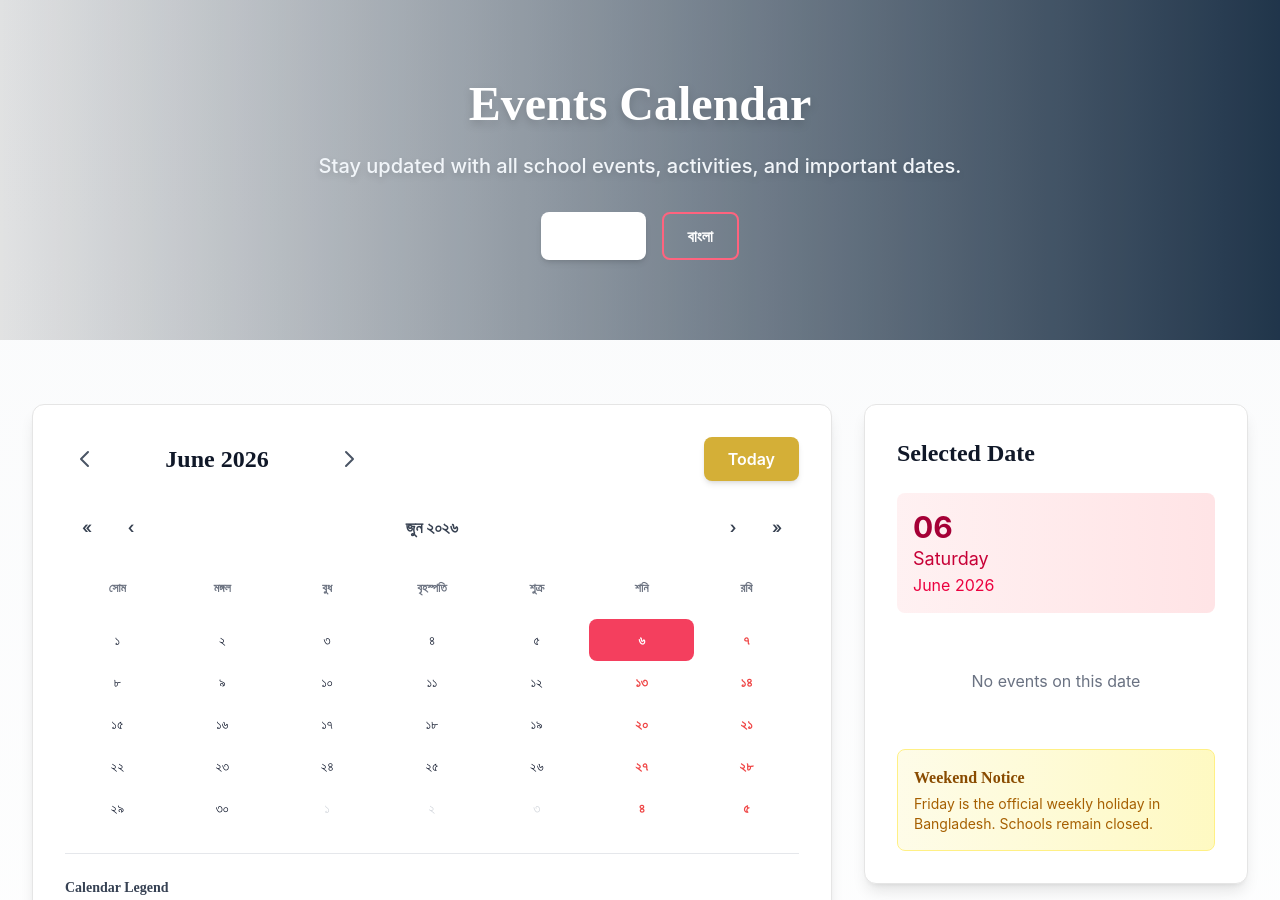
Test: EventsCalendar Page › Language Toggle › switches to Bengali language
The width and height of the screenshot is (1280, 900).
What coordinates should you click on to do the following:
click the button "বাংলা"
I would click on:
 (700, 236)
Its box is [662,212,739,260].
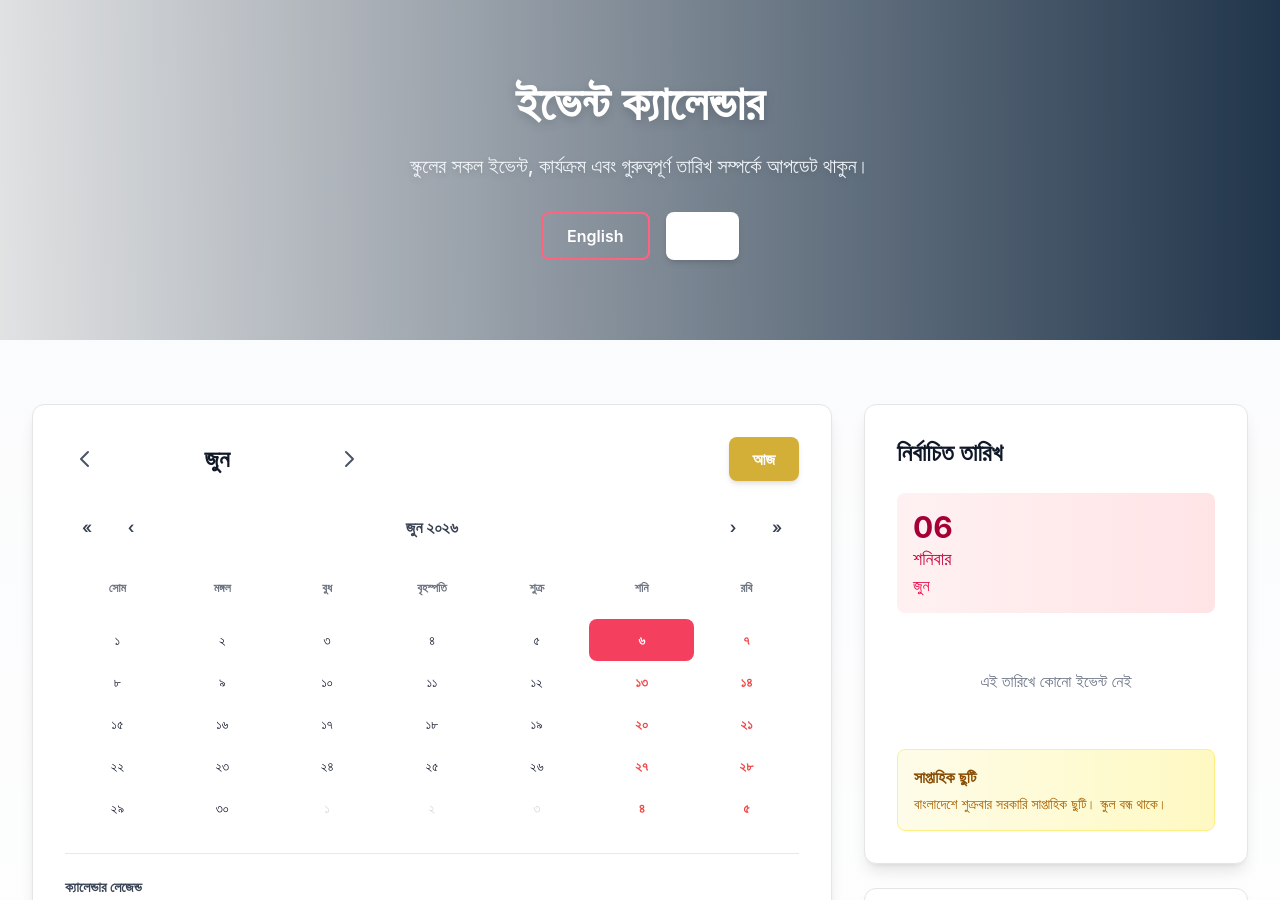
Now the heading "ইভেন্ট ক্যালেন্ডার" is shown, box [516,77,764,130]
